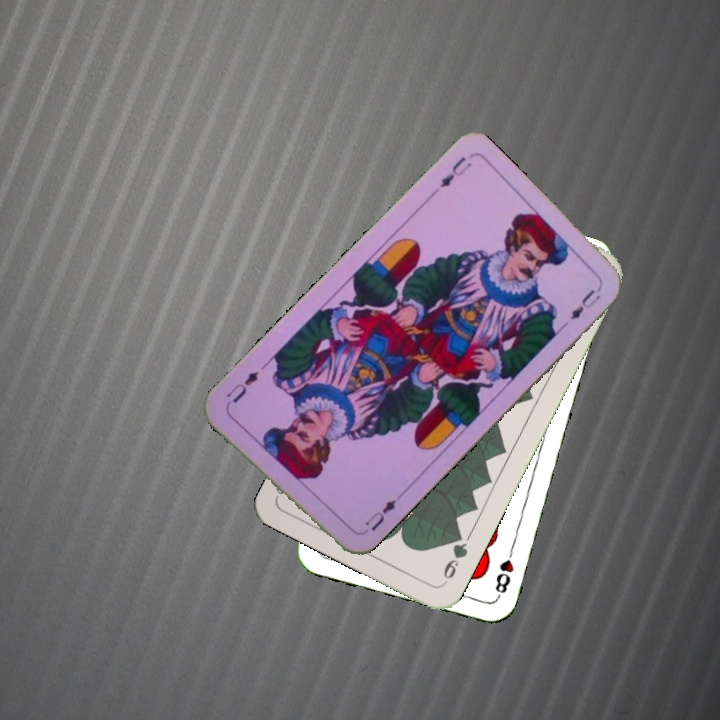EU: (355, 495, 399, 538), (435, 152, 474, 190)
G9: (439, 528, 470, 587)
H8: (491, 542, 517, 600)
